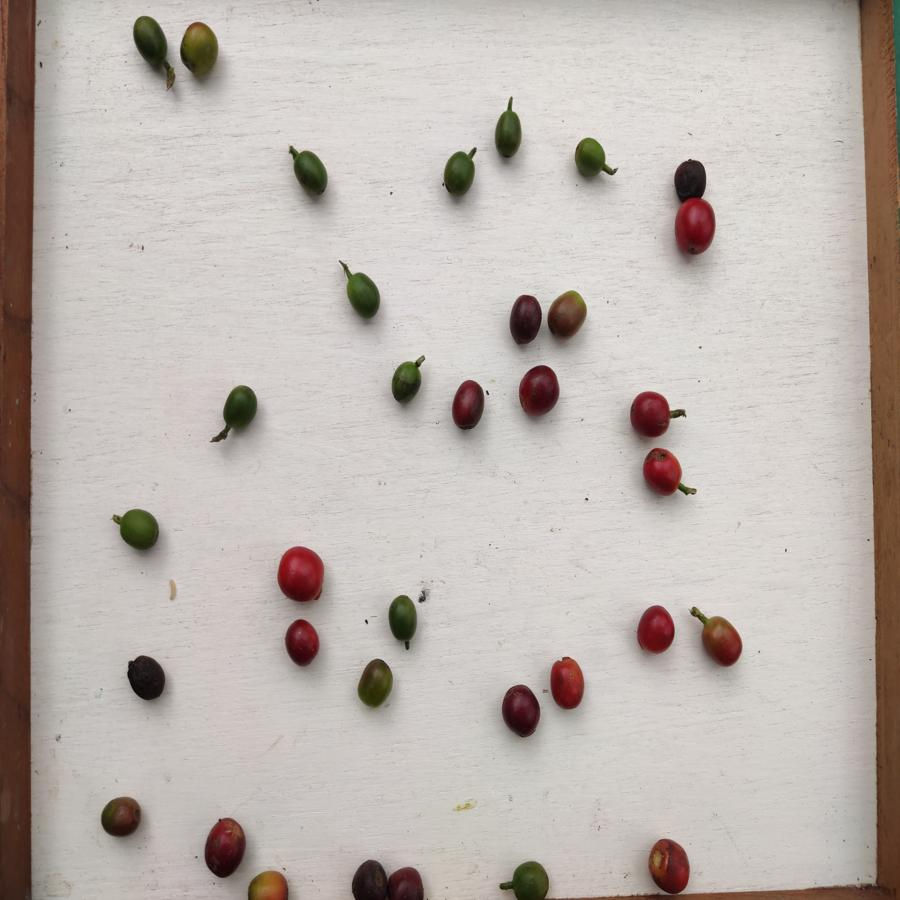Inmaduro: (131, 15, 172, 70), (508, 855, 552, 900), (115, 508, 162, 550), (290, 148, 329, 196), (343, 271, 381, 318), (222, 385, 258, 433), (492, 106, 523, 160), (387, 593, 418, 646), (442, 149, 475, 198), (388, 360, 422, 406), (574, 136, 608, 179)
Maduro: (273, 543, 328, 605), (648, 835, 690, 895), (673, 197, 715, 256), (634, 602, 678, 658), (548, 654, 587, 711), (628, 391, 674, 435), (643, 445, 682, 496)
Pinton: (696, 612, 745, 668), (179, 19, 222, 78), (354, 657, 395, 711), (100, 791, 143, 841), (548, 290, 588, 338), (245, 869, 293, 900)
Sobremaduro: (202, 815, 245, 881), (518, 364, 562, 420), (281, 619, 323, 672), (124, 655, 167, 700), (503, 684, 540, 736), (449, 378, 486, 429), (508, 292, 540, 346), (350, 858, 388, 900), (388, 862, 428, 900), (672, 157, 708, 196)
